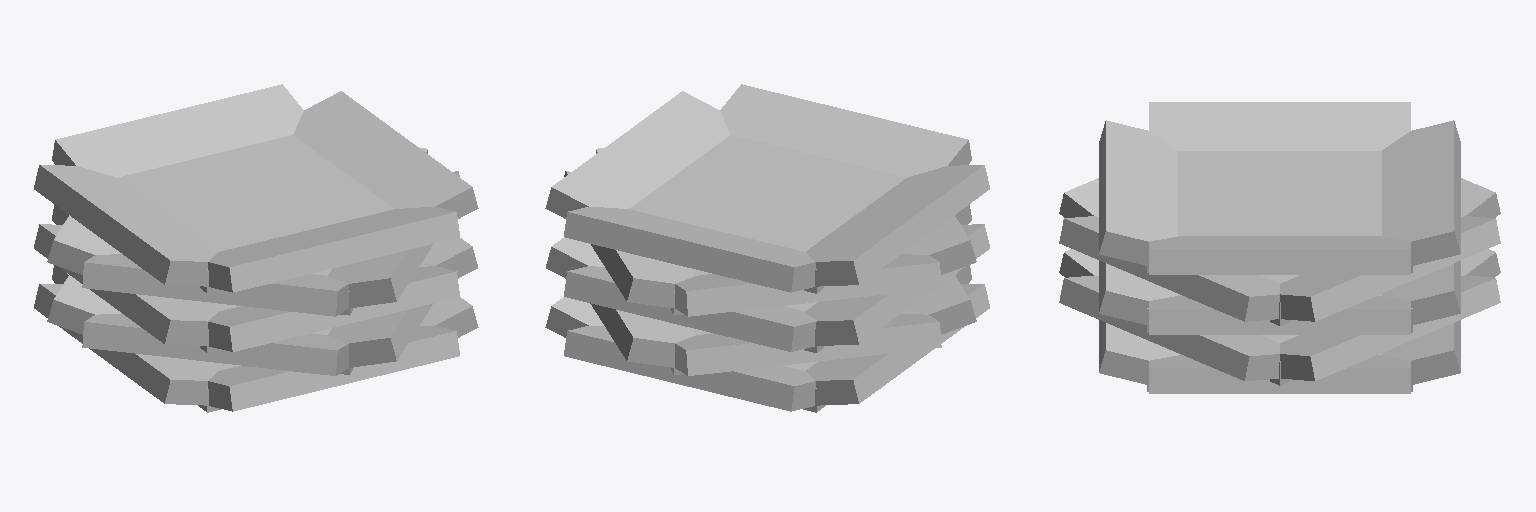
File: teaplate_5.obj
The picture shows the model from 3 angles: view 1: azimuth 30°, elevation 25°; view 2: azimuth 150°, elevation 25°; view 3: azimuth 270°, elevation 25°; orthographic projection.
Parts seen in each view (by area): view 1: bottom_5, south_rim_5, west_rim_5, north_rim_5, east_rim_5, north_rim_4, west_rim_2, west_rim_3, south_rim_1, north_rim_3, west_rim_1, west_rim_4 (+5 smaller); view 2: bottom_5, north_rim_5, west_rim_5, south_rim_5, east_rim_5, east_rim_4, north_rim_2, east_rim_3, north_rim_1, north_rim_3, west_rim_1, south_rim_4 (+5 smaller); view 3: bottom_5, east_rim_5, west_rim_5, north_rim_5, south_rim_5, south_rim_3, east_rim_1, west_rim_4, south_rim_4, east_rim_2, south_rim_2, north_rim_1 (+7 smaller).
Boxes of the visible parts, <box> form: bottom_5: <box>118,135,393,293</box>; south_rim_5: <box>52,84,303,177</box>; west_rim_5: <box>293,91,478,218</box>; north_rim_5: <box>208,207,459,292</box>; east_rim_5: <box>34,165,217,286</box>; north_rim_4: <box>82,254,348,316</box>; west_rim_2: <box>82,314,348,375</box>; west_rim_3: <box>208,266,459,351</box>; south_rim_1: <box>208,326,459,411</box>; north_rim_3: <box>34,224,218,345</box>; west_rim_1: <box>34,284,217,405</box>; west_rim_4: <box>328,171,459,307</box>; bottom_5: <box>630,135,905,293</box>; north_rim_5: <box>720,84,971,177</box>; west_rim_5: <box>545,91,730,218</box>; south_rim_5: <box>564,207,815,292</box>; east_rim_5: <box>806,165,989,286</box>; east_rim_4: <box>675,254,941,316</box>; north_rim_2: <box>675,314,941,375</box>; east_rim_3: <box>564,266,815,351</box>; north_rim_1: <box>564,326,815,411</box>; north_rim_3: <box>805,224,989,345</box>; west_rim_1: <box>806,284,989,405</box>; south_rim_4: <box>564,171,695,307</box>; bottom_5: <box>1147,151,1412,272</box>; east_rim_5: <box>1149,102,1410,150</box>; west_rim_5: <box>1149,236,1410,274</box>; north_rim_5: <box>1099,120,1177,265</box>; south_rim_5: <box>1382,120,1460,265</box>; south_rim_3: <box>1149,296,1410,334</box>; east_rim_1: <box>1149,355,1410,393</box>; west_rim_4: <box>1059,216,1279,321</box>; south_rim_4: <box>1280,216,1500,321</box>; east_rim_2: <box>1280,275,1500,380</box>; south_rim_2: <box>1059,275,1279,380</box>; north_rim_1: <box>1382,320,1460,384</box>.
Bounding box in the file's own units: 1.05 × 0.4214 × 1.05.